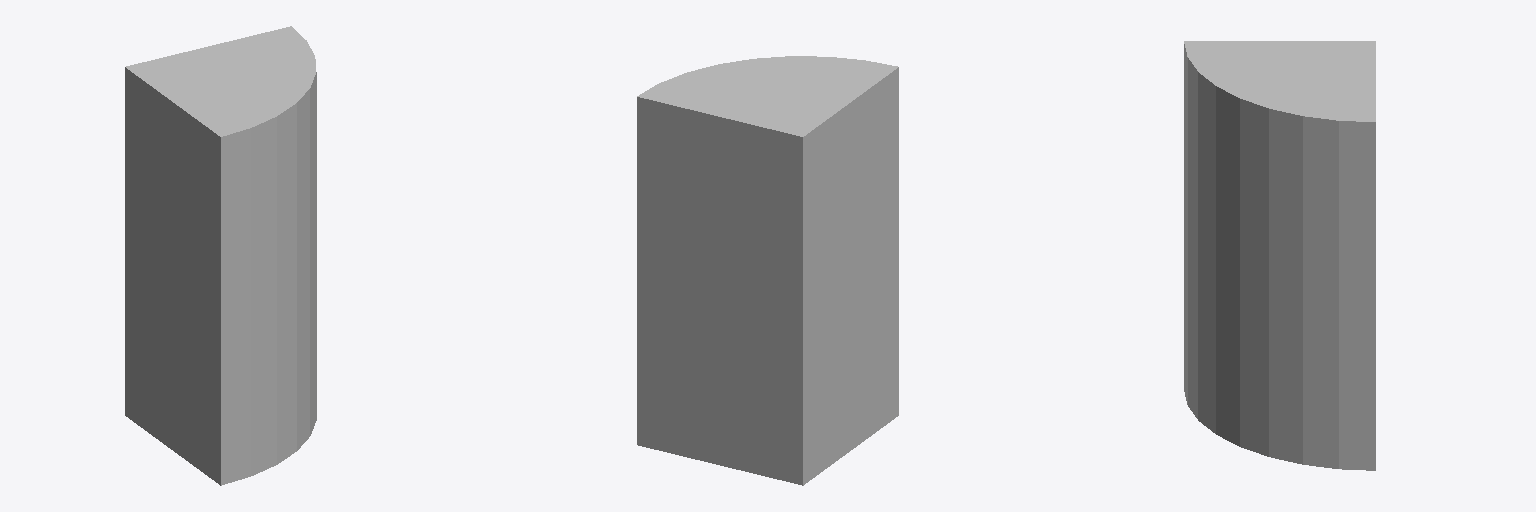
File: SM_QuarterCylinder.obj
The picture shows the model from 3 angles: view 1: azimuth 30°, elevation 25°; view 2: azimuth 150°, elevation 25°; view 3: azimuth 270°, elevation 25°; orthographic projection.
Visible parts, largest first — view 1: Cylinder; view 2: Cylinder; view 3: Cylinder.
Boxes of the visible parts, x1,y1,x2,y2 form: Cylinder: [125, 26, 316, 485]; Cylinder: [637, 56, 898, 485]; Cylinder: [1184, 41, 1375, 470].
Size of the model in its own units: 0.5 by 1 by 0.5.